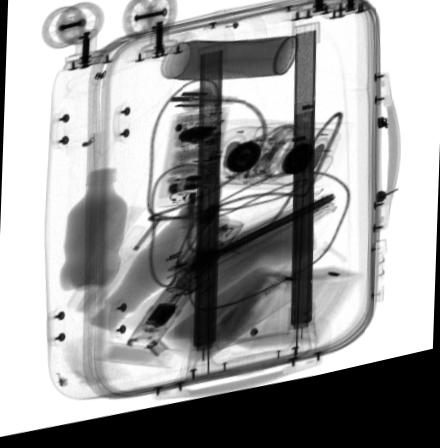Baton: (125, 227, 244, 355)
